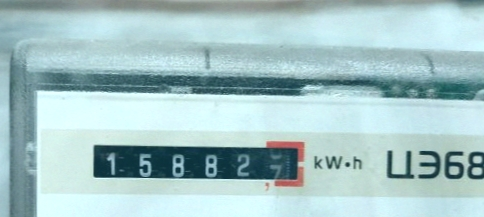1: (103, 145, 117, 174)
2: (234, 148, 250, 176)
5: (135, 147, 153, 175)
7: (266, 158, 282, 176)
8: (168, 148, 184, 176), (202, 148, 217, 176)
screen: (77, 125, 314, 193)
